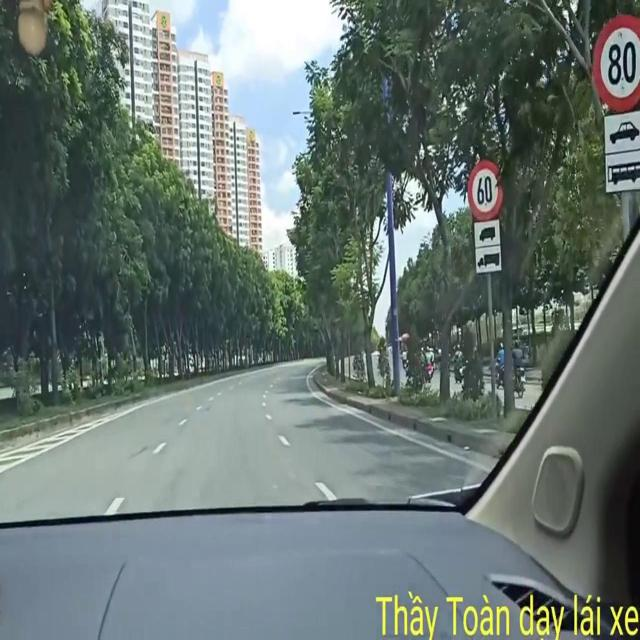Biển phụ: (603, 114, 631, 200), (474, 218, 504, 270)
Giới hạn tốc độ 60Km/h: (464, 149, 508, 220)
Giới hạn tốc độ 80Km/h: (590, 15, 637, 110)
